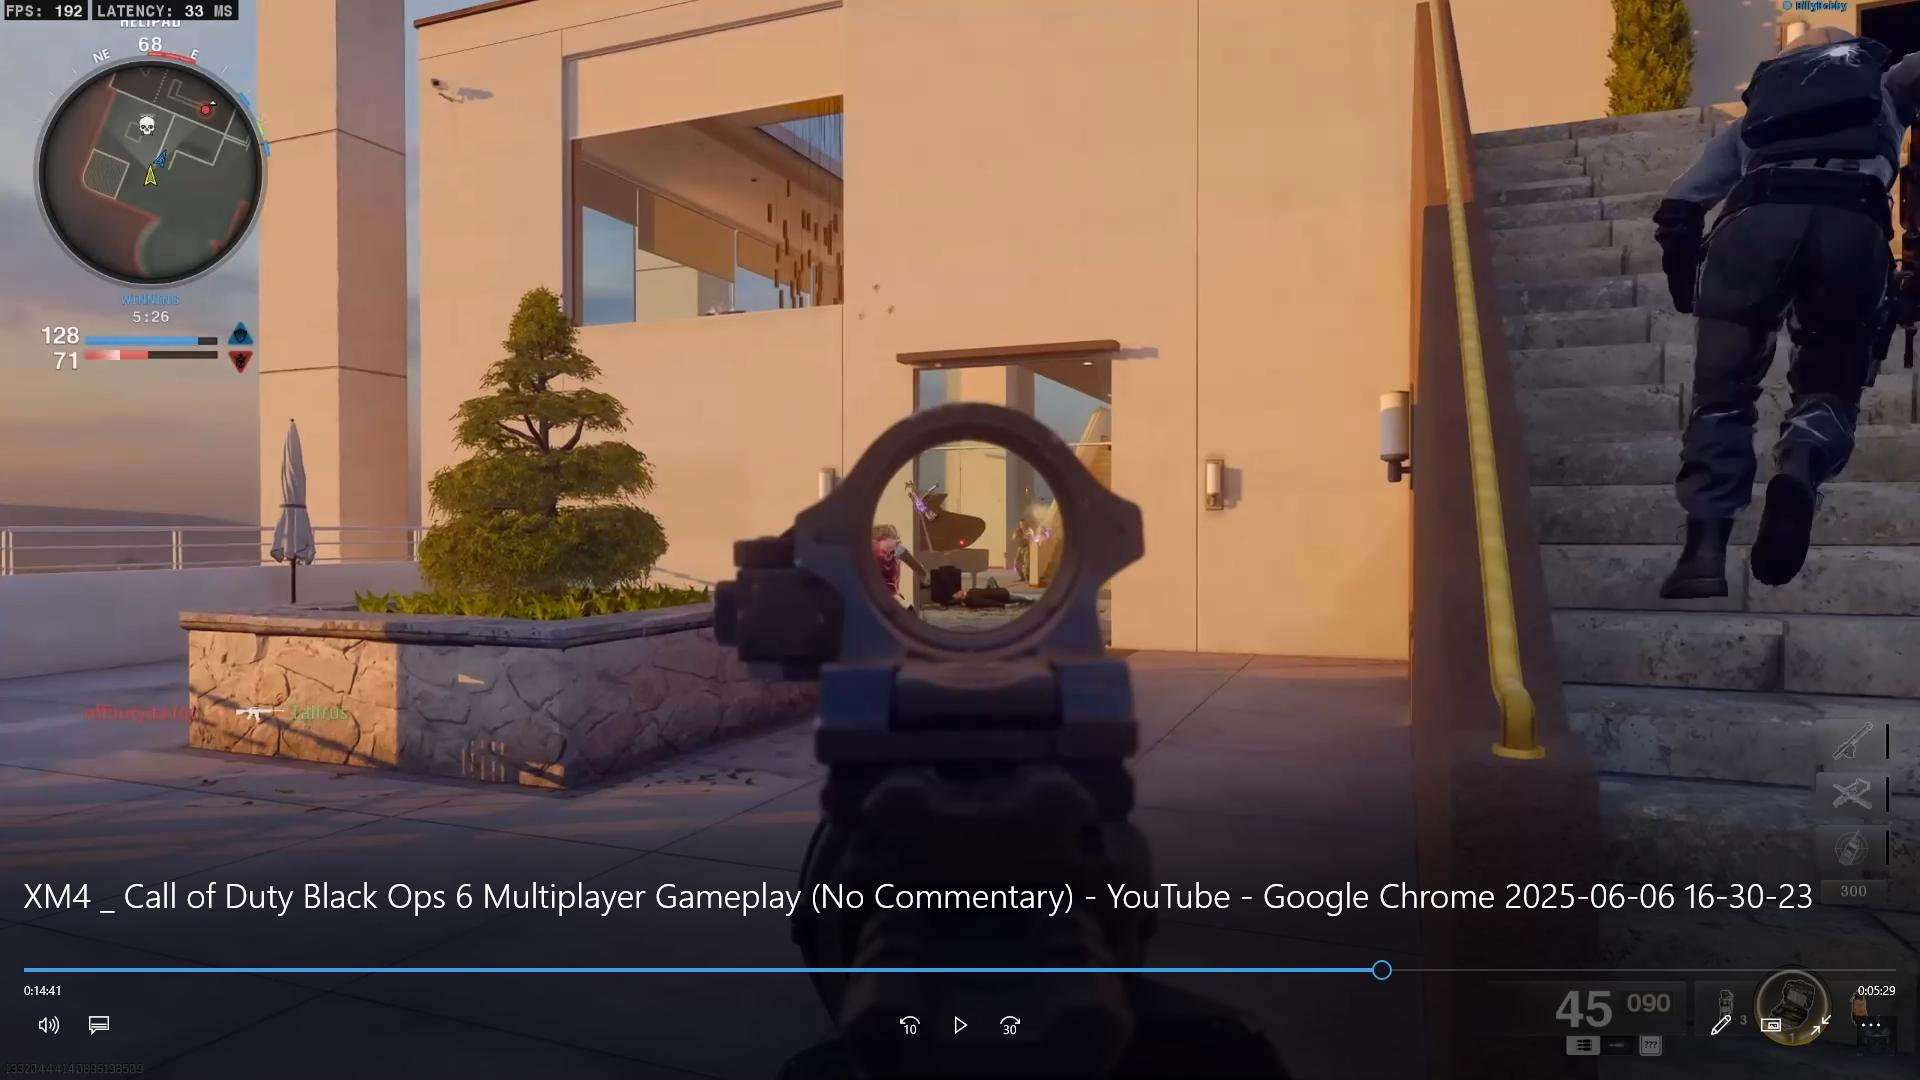Enemy: (1648, 25, 1920, 589), (1002, 513, 1034, 587)
